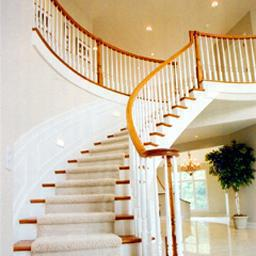Escaleras: (27, 40, 189, 255)
Matera: (210, 146, 253, 232)
